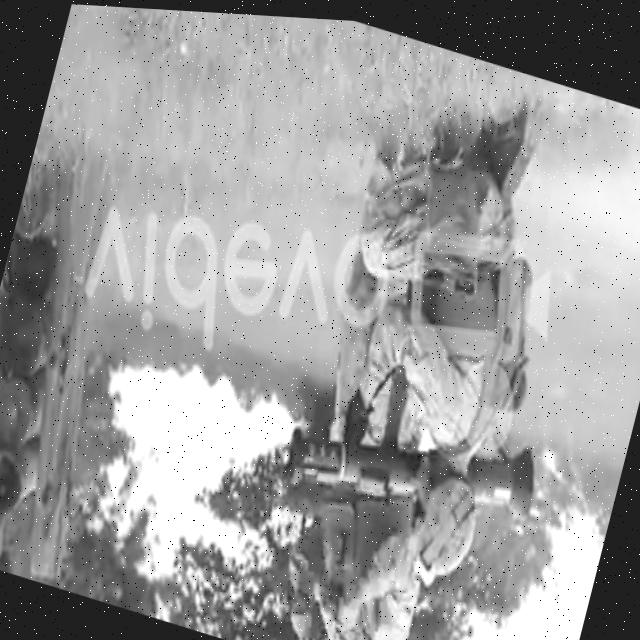rocket: (272, 369, 548, 551)
